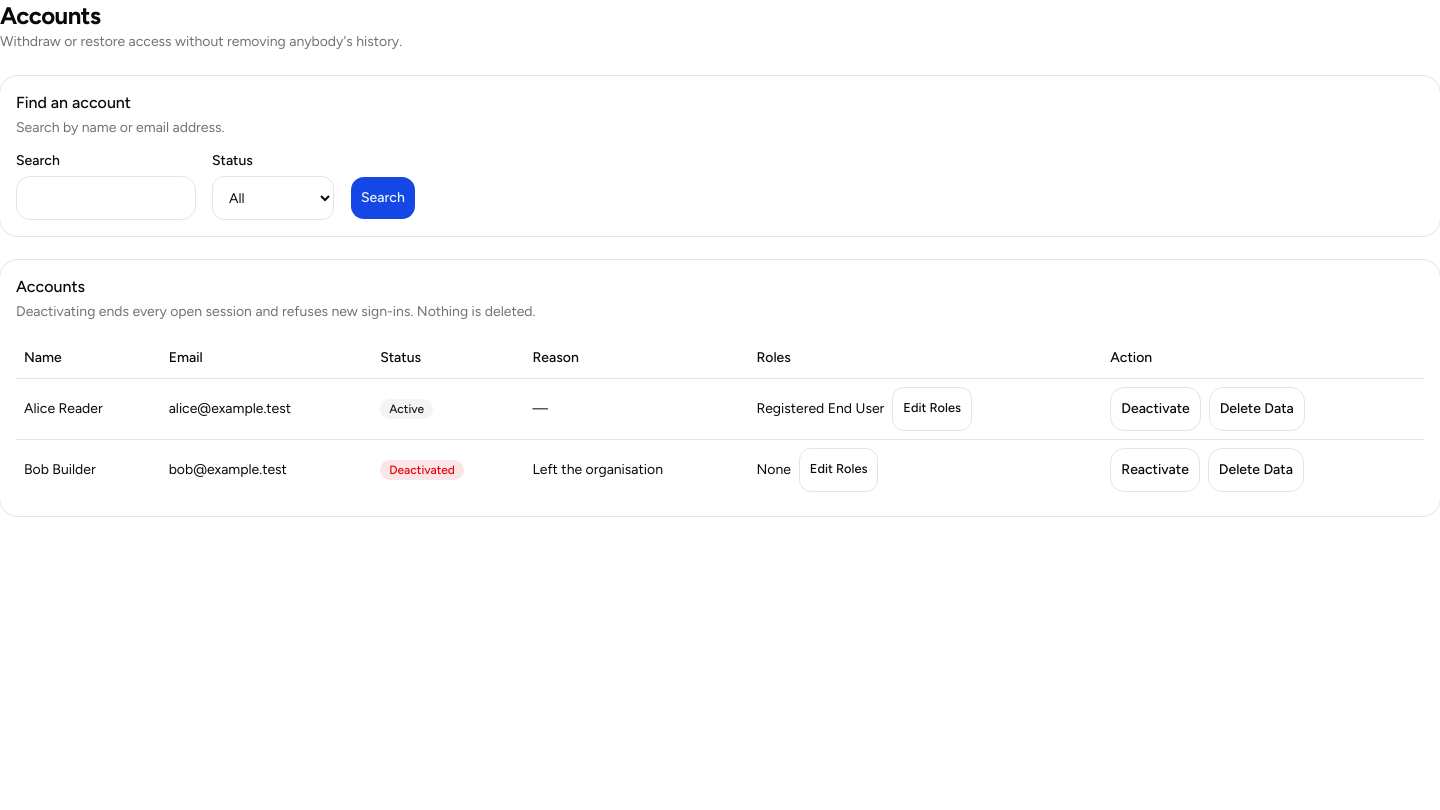
AccountManagementView › shows the server's reason when roles could not be saved
Click the button "Edit Roles" next to "Registered End User". click: (932,408)
box: [892,386,972,430]
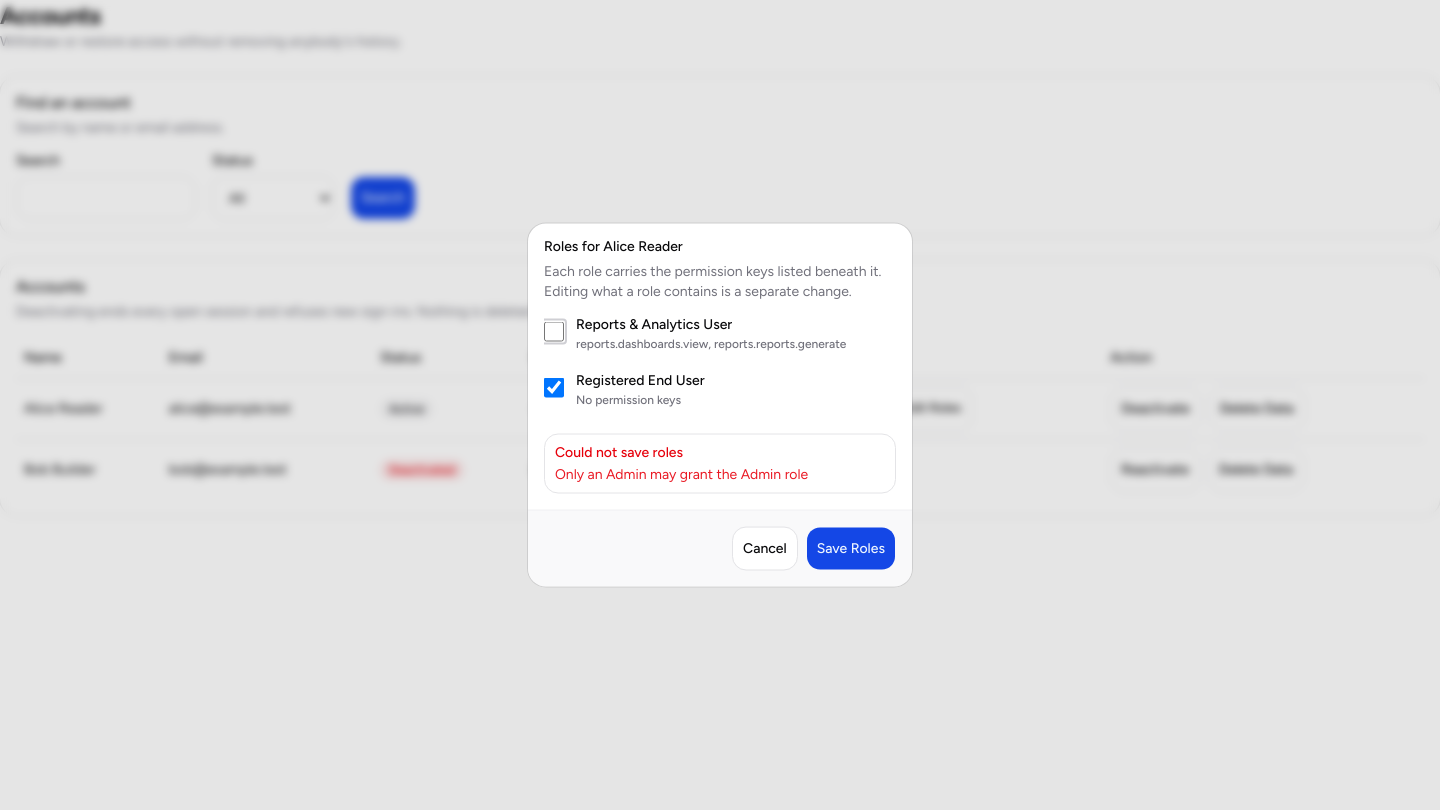
Expected: the text "Only an Admin may grant the Admin role" is shown, [555,466,808,482]
